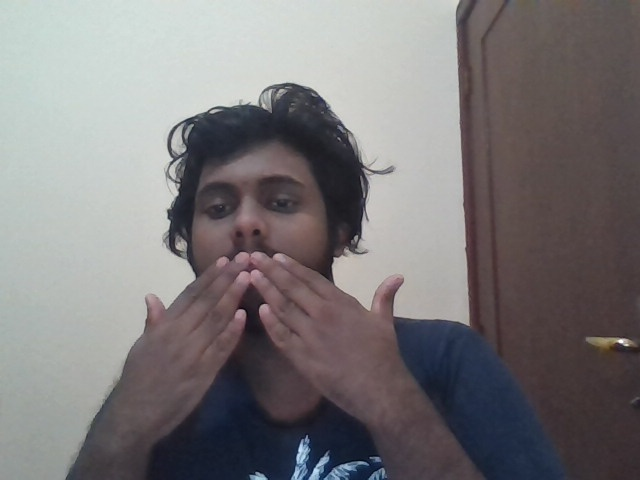thankyou: (143, 249, 405, 374)
